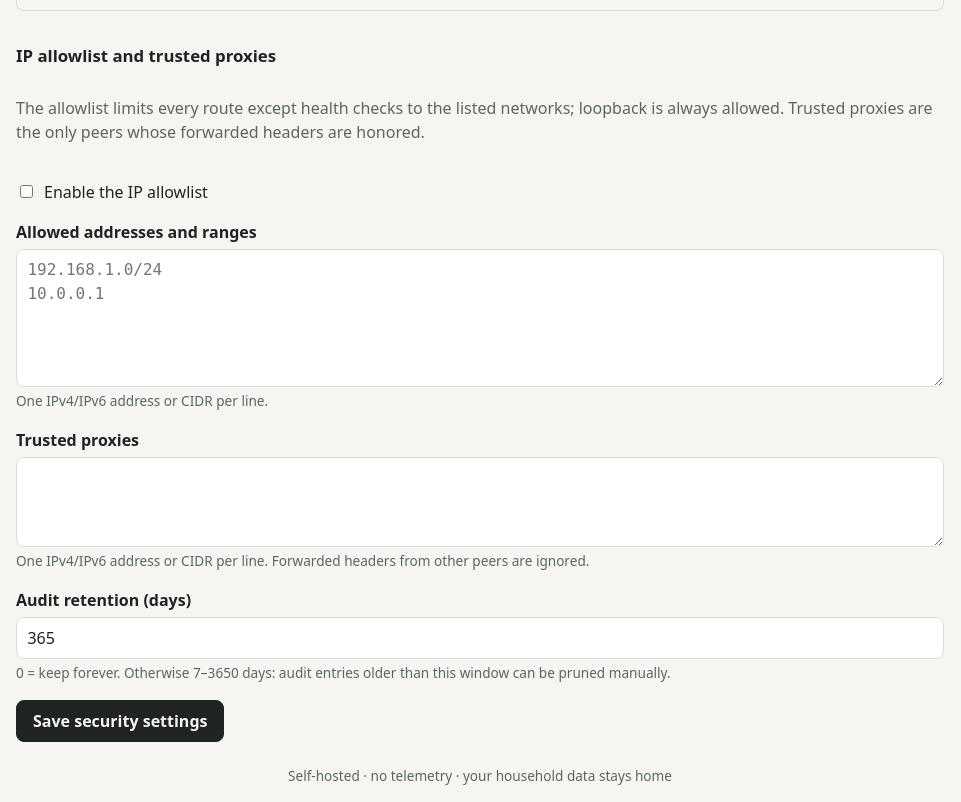
Scenario: security settings section › renders the audit retention field and patches a valid change
The image size is (961, 802).
(page scrolled)
Expected: the text "0 = keep forever" is shown, [16,663,671,682]
Replace the text in the number field labelled "Audit retention (days)" with "30" at (480,638), box [16,616,944,658]
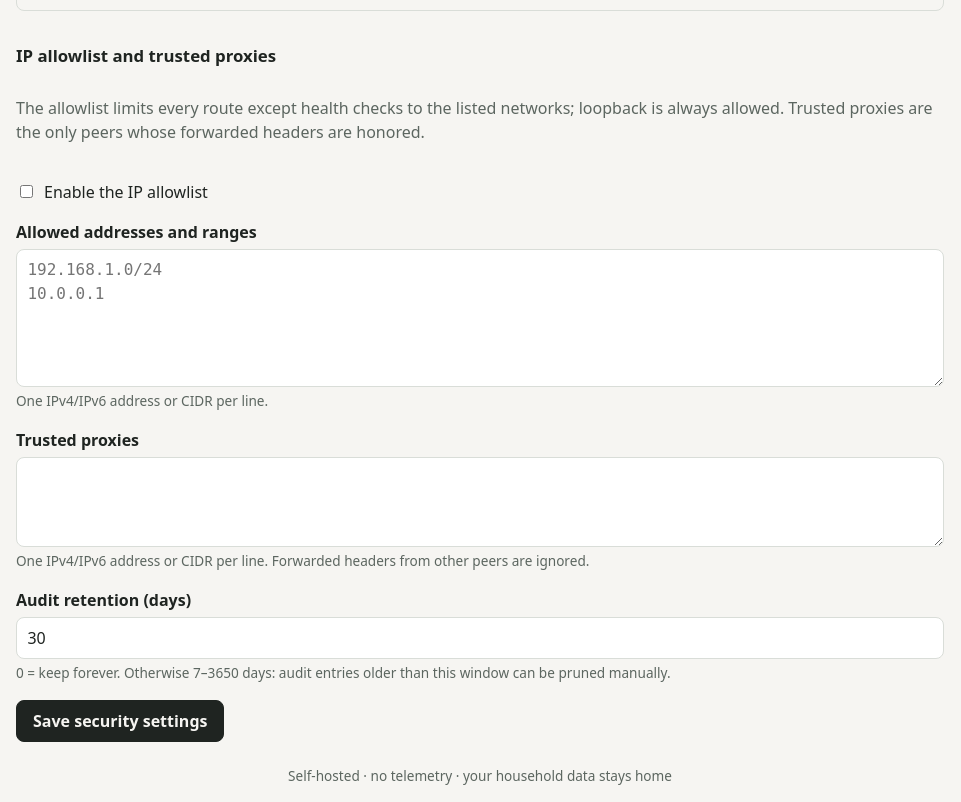
Click the button "Save security settings" at (120,721), box [16,700,224,742]
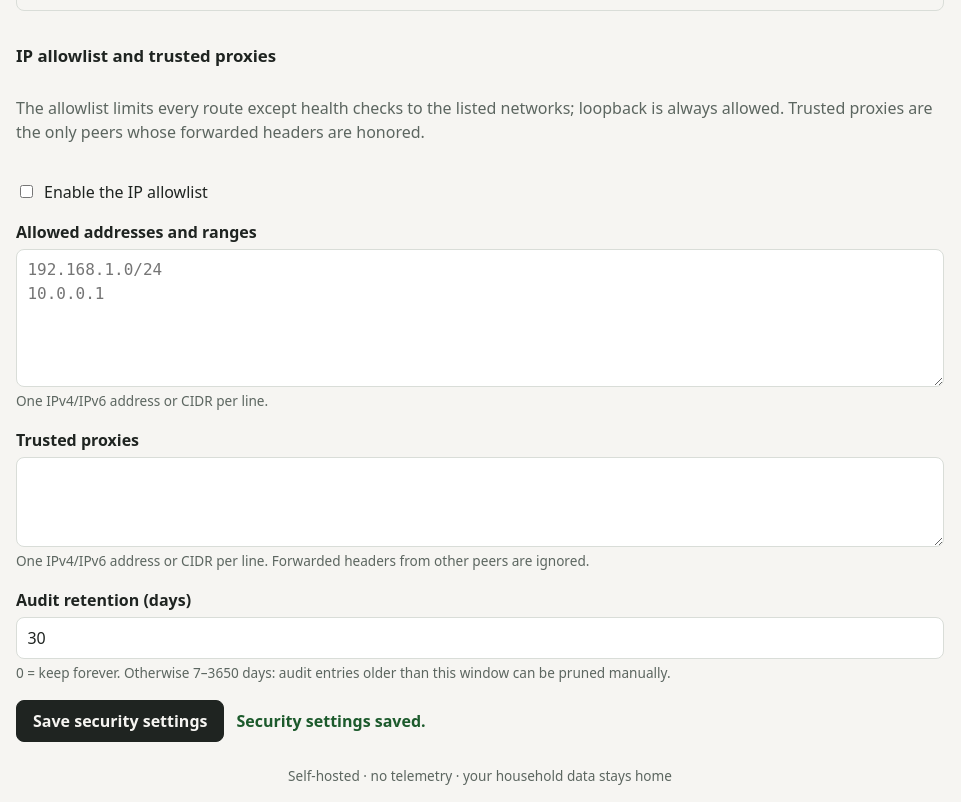
Expected: the text "Security settings saved." is shown, [236,709,426,733]
